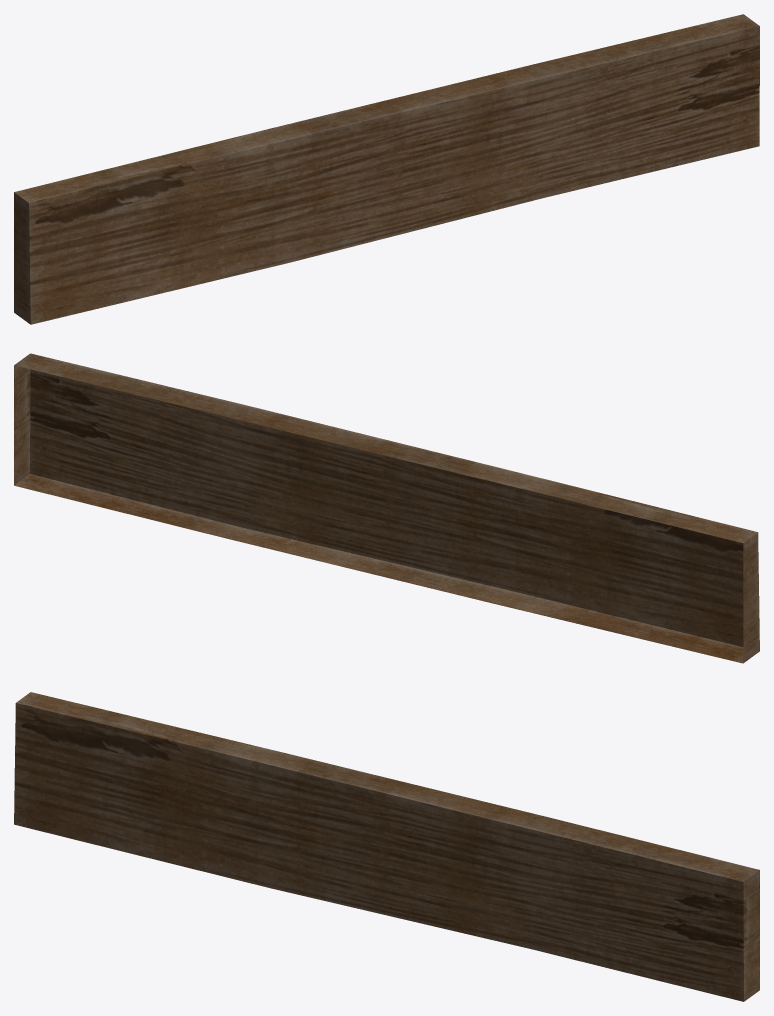
3 renders of one model, top to bottom at view 1: azimuth 30°, elevation 25°; view 2: azimuth 150°, elevation 25°; view 3: azimuth 330°, elevation 25°, orthographic.
Visible parts, largest first — view 1: LP.004; view 2: LP.004; view 3: LP.004.
Boxes of the visible parts, box(x1,y1,x2,y2) form: LP.004: box(14, 14, 759, 324); LP.004: box(14, 353, 759, 663); LP.004: box(14, 692, 759, 1001).
Size of the model in its own units: 5907 by 942 by 247.
Materials: 1 (1 with a texture image).
